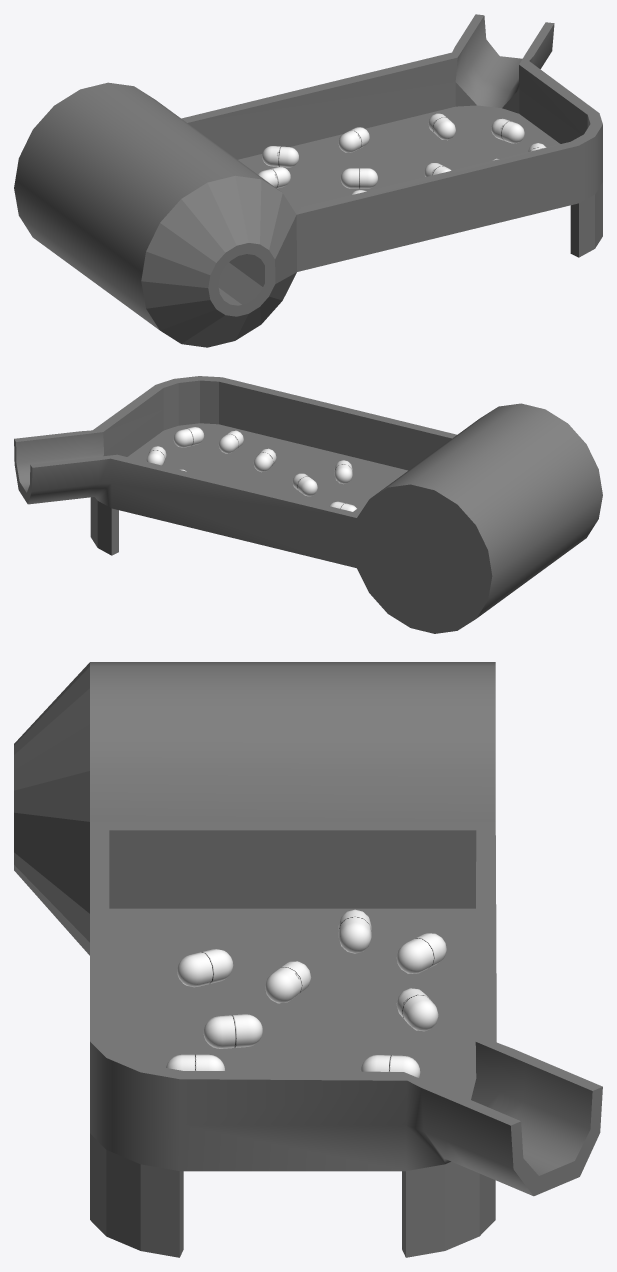
The model's file is FilledTray.FBX.
3 renders of one model, top to bottom at view 1: azimuth 30°, elevation 25°; view 2: azimuth 150°, elevation 25°; view 3: azimuth 270°, elevation 25°, orthographic. The views are drawn at different scales.
Visible parts, largest first — view 1: Tray; view 2: Tray; view 3: Tray.
Part boxes in pixels (x1,y1,x2,y2): Tray: [14, 14, 602, 347]; Tray: [14, 376, 602, 633]; Tray: [14, 662, 602, 1257].
Bounding box in the file's own units: 98.95 × 28.75 × 58.06.
Materials: 2 (1 with a texture image).
